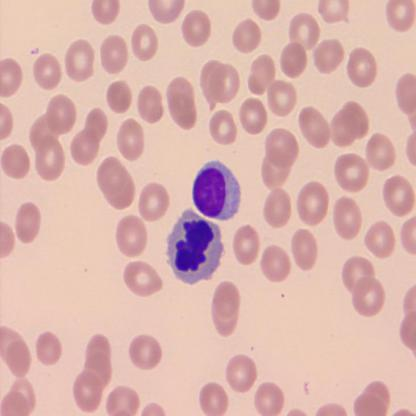NRC: (191, 159, 243, 222)
